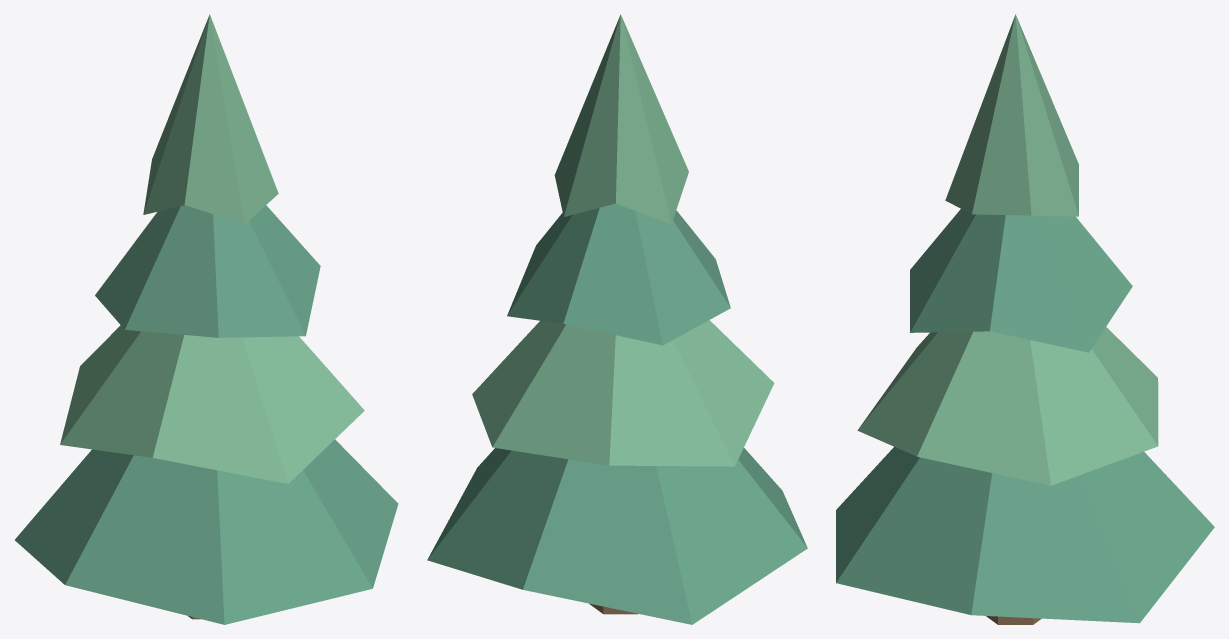
The model's file is tree_pine.glb.
The picture shows the model from 3 angles, left to right: view 1: azimuth 30°, elevation 25°; view 2: azimuth 150°, elevation 25°; view 3: azimuth 270°, elevation 25°; orthographic projection.
Visible parts, largest first — view 1: tree_pine; view 2: tree_pine; view 3: tree_pine.
Boxes of the visible parts, <box> form: tree_pine: <box>15,14,398,624</box>; tree_pine: <box>427,14,807,624</box>; tree_pine: <box>836,14,1214,624</box>.
Bounding box in the file's own units: 0.3315 × 0.5629 × 0.3232.
